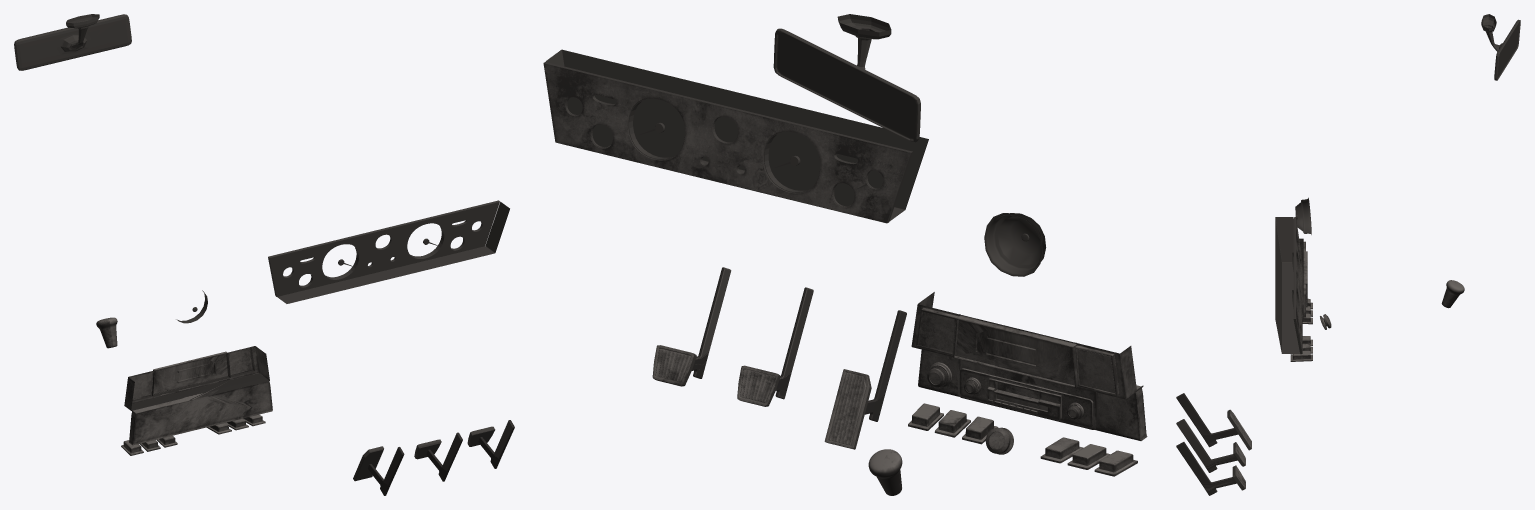
File: internal.glb
3 renders of one model, left to right at view 1: azimuth 30°, elevation 25°; view 2: azimuth 150°, elevation 25°; view 3: azimuth 270°, elevation 25°, orthographic. The views are drawn at different scales.
Visible parts, largest first — view 1: Console.055, Console.014, Console.023, Console.025, Console.017, Console.042, Console.041, Console.040, Console.037, Console.024; view 2: Console.055, Console.014, Console.025, Console.023, Console.017, Console.056, Console.026, Console.027, Console.037, Console.022, Console.039, Console.038 (+11 smaller); view 3: Console.025, Console.055, Console.040, Console.041, Console.042, Console.023, Console.056, Console.021.
Boxes of the visible parts, <box> form: Console.055: <box>268,200,499,296</box>; Console.014: <box>124,346,272,445</box>; Console.023: <box>14,14,131,70</box>; Console.025: <box>277,201,509,303</box>; Console.017: <box>153,353,227,394</box>; Console.042: <box>478,420,514,468</box>; Console.041: <box>426,432,462,481</box>; Console.040: <box>368,447,404,495</box>; Console.037: <box>353,446,383,481</box>; Console.024: <box>66,14,99,48</box>; Console.055: <box>543,62,912,223</box>; Console.014: <box>911,292,1147,440</box>; Console.025: <box>545,49,928,220</box>; Console.023: <box>773,28,920,142</box>; Console.017: <box>955,320,1074,384</box>; Console.056: <box>984,213,1046,276</box>; Console.026: <box>628,98,684,159</box>; Console.027: <box>764,131,820,192</box>; Console.037: <box>824,369,871,449</box>; Console.022: <box>987,378,1061,419</box>; Console.039: <box>652,345,696,386</box>; Console.038: <box>737,365,780,406</box>; Console.025: <box>1275,217,1299,353</box>; Console.055: <box>1293,217,1302,354</box>; Console.040: <box>1176,393,1238,447</box>; Console.041: <box>1176,419,1237,472</box>; Console.042: <box>1176,442,1236,495</box>; Console.023: <box>1494,19,1520,80</box>; Console.056: <box>1295,197,1311,234</box>; Console.021: <box>1441,280,1464,308</box>.
Size of the model in its own units: 1.02 by 1.05 by 0.9054.
1 material, 1 textured.
